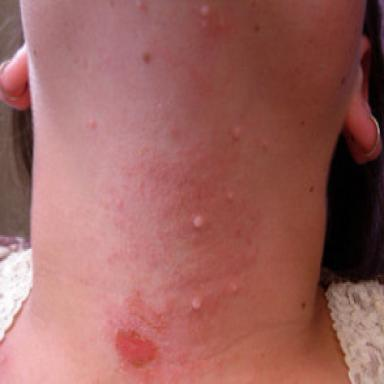Molluscum-Contagiosum: (230, 125, 241, 141), (193, 216, 203, 228), (191, 297, 201, 309), (200, 5, 209, 16), (115, 198, 123, 208), (89, 118, 96, 128), (227, 191, 233, 202), (262, 141, 269, 150), (232, 284, 239, 292), (135, 0, 141, 7)
